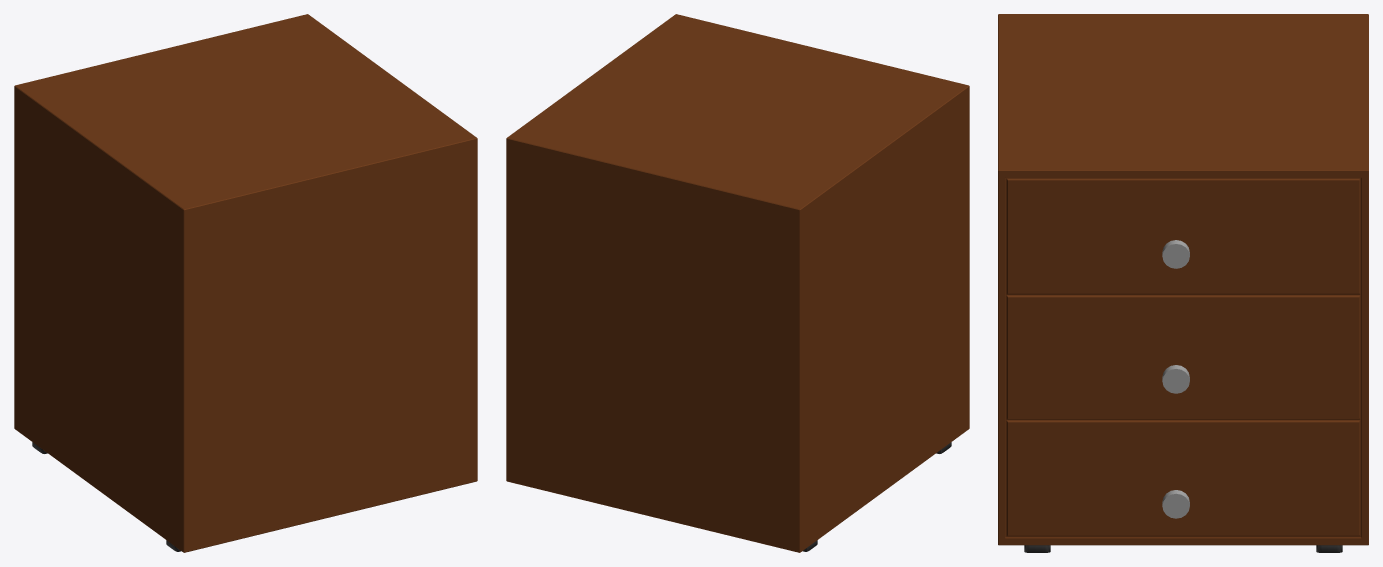
The model's file is Desk Draws.fbx.
The picture shows the model from 3 angles, left to right: view 1: azimuth 30°, elevation 25°; view 2: azimuth 150°, elevation 25°; view 3: azimuth 270°, elevation 25°; orthographic projection. The views are drawn at different scales.
Visible parts, largest first — view 1: Cube.030; view 2: Cube.030; view 3: Cube.030.
Boxes of the visible parts, left/top/right/bottom form: Cube.030: left=14, top=14, right=477, bottom=552; Cube.030: left=506, top=14, right=969, bottom=552; Cube.030: left=998, top=14, right=1368, bottom=552.
Size of the model in its own units: 138 by 154 by 135.
